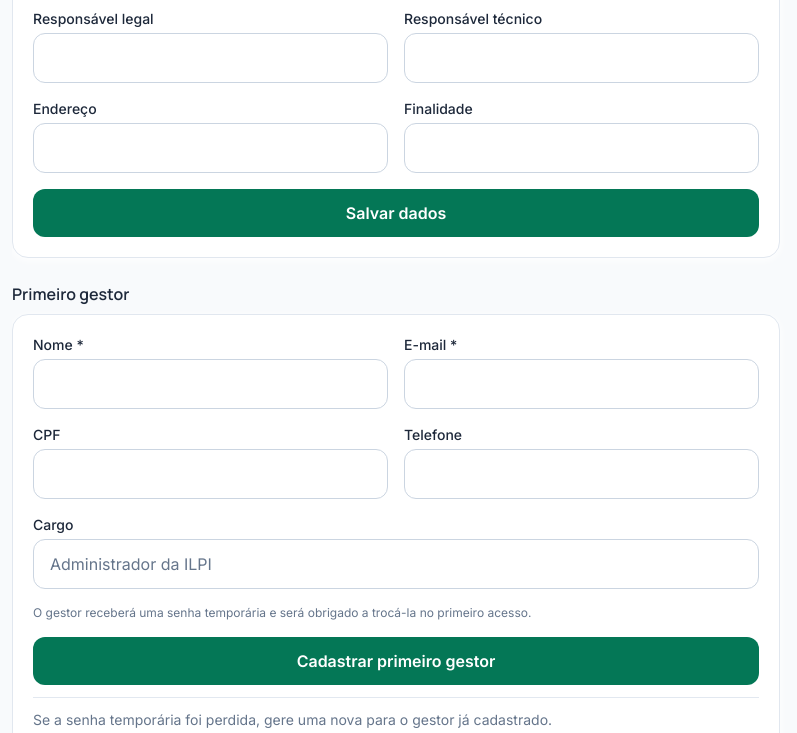
Central — primeiro gestor e credencial › 16. 409 de gestor já existente aparece como mensagem do backend
(page scrolled)
Type "Maria Gestora" into the field labelled "Nome *" at (210, 384), box [33,359,388,409]
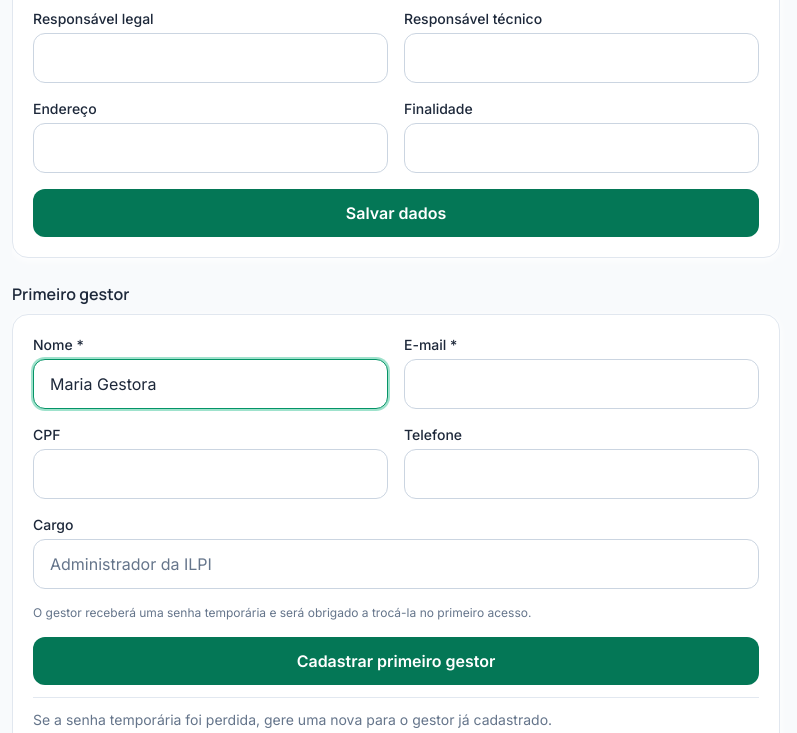
Type "maria@casa.com.br" into the field labelled "E-mail *" at (582, 384), box [404,359,759,409]
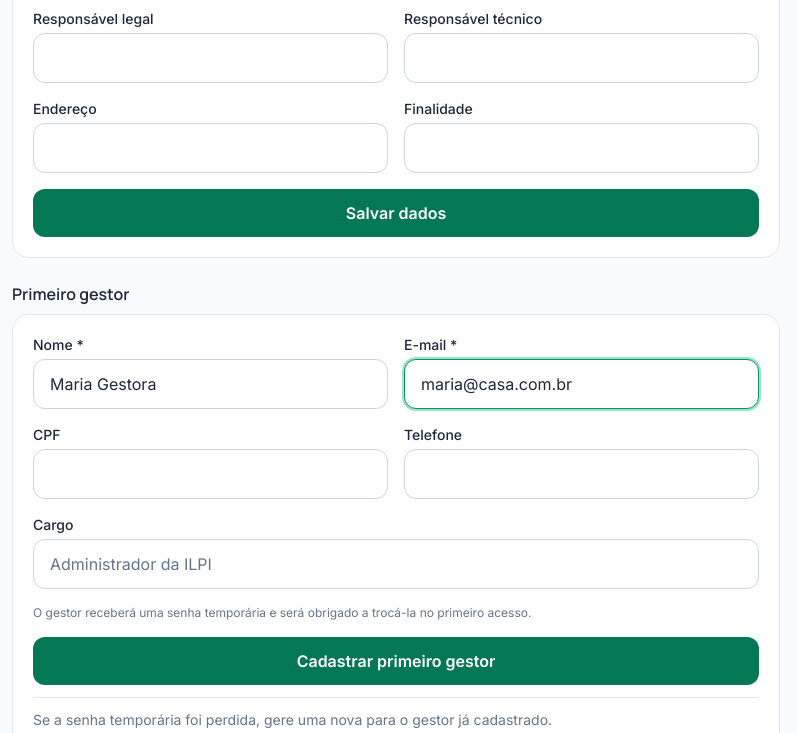
Click the button "Cadastrar primeiro gestor" at (396, 661), box [33,637,759,685]
(page scrolled)
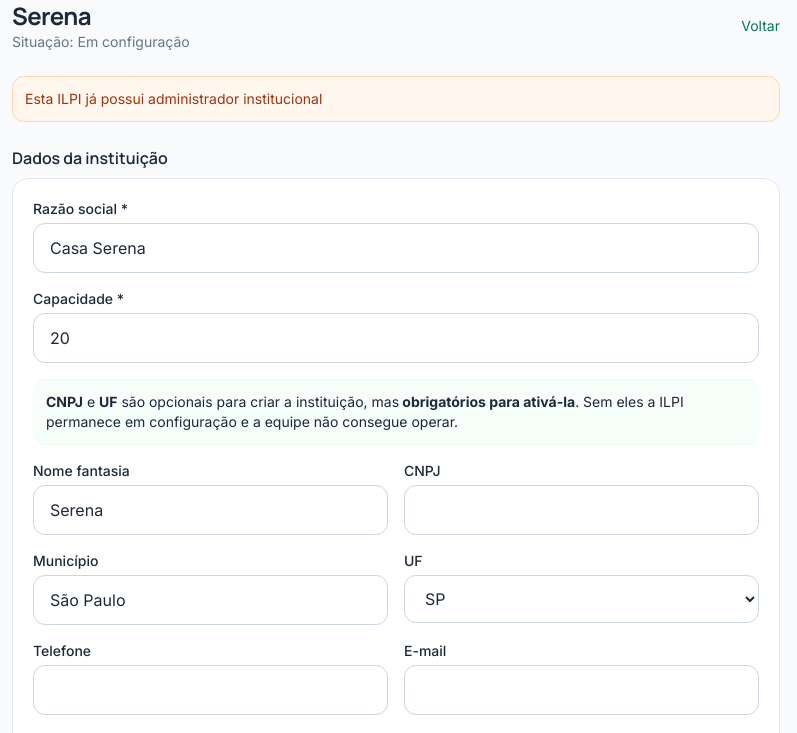
Now the message shows "já possui administrador institucional", box [25,90,322,107]
